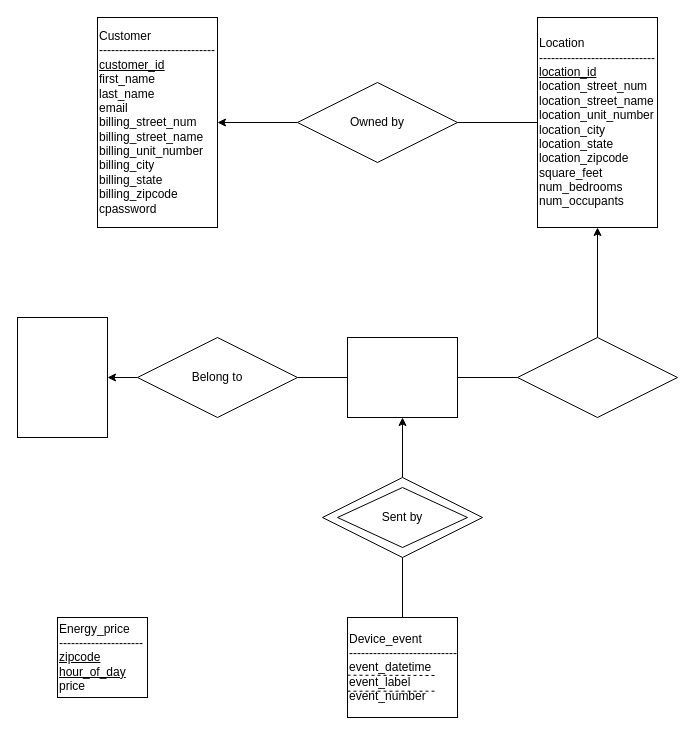
Image size: 695x735. Some labels were removed from this diagram. The centre of each missing label's shape, as x and y in pixels:
"Device_model ---------------------- model_id model_type model_name" belongs at pixel 62 377.
"Device_registered --------------------------- device_id tag" belongs at pixel 402 377.
"Placed at" belongs at pixel 597 377.
